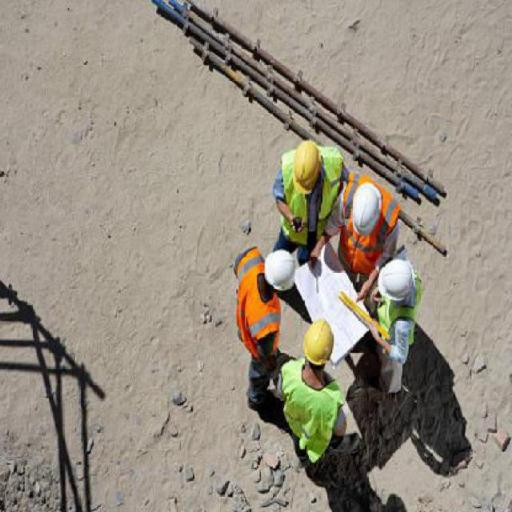hardhat: (290, 136, 326, 198), (377, 254, 419, 306), (352, 181, 387, 239), (300, 314, 337, 368), (261, 244, 301, 292)
person: (268, 312, 358, 479), (224, 233, 295, 428), (263, 134, 350, 265), (356, 253, 426, 404), (334, 162, 400, 300)
vest: (276, 134, 345, 249), (276, 356, 346, 468), (230, 234, 284, 365), (338, 165, 402, 274)
